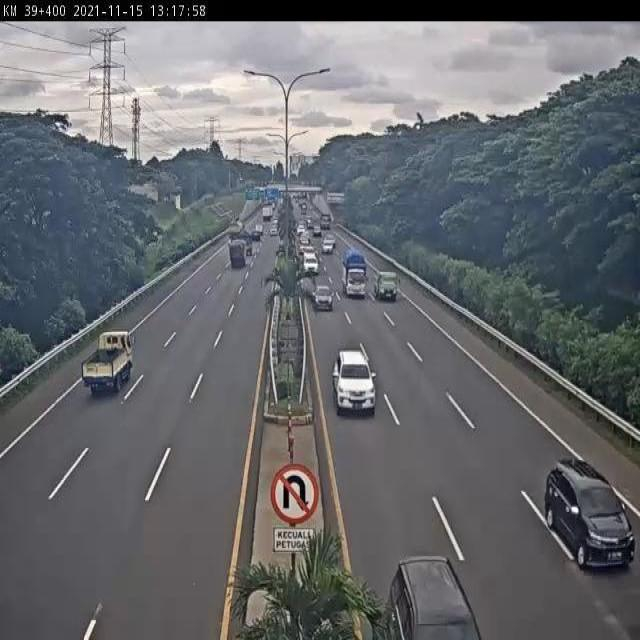Car: (544, 459, 635, 569), (387, 555, 484, 638), (330, 341, 379, 424), (373, 270, 398, 302), (312, 284, 334, 312), (302, 251, 318, 275), (322, 236, 336, 254)
Truck: (81, 327, 133, 396), (339, 250, 372, 299), (224, 236, 250, 273), (226, 217, 244, 241)
